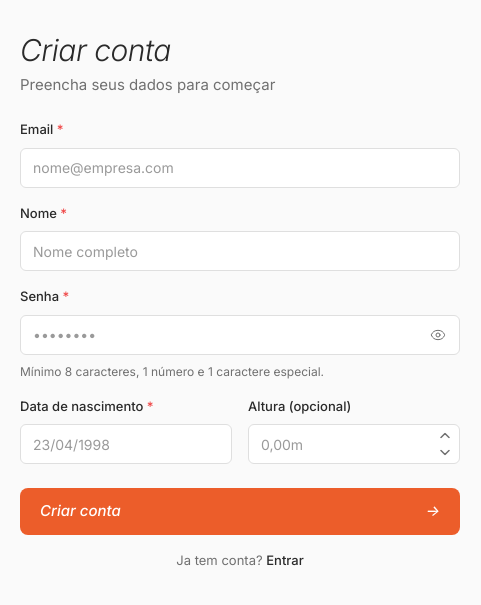
RegisterPage › rejects invalid birth dates in dd/mm/aaaa format
Type "user@example.com" into the field labelled "Email".
click(240, 168); type("user@example.com")  # box [20,148,460,188]
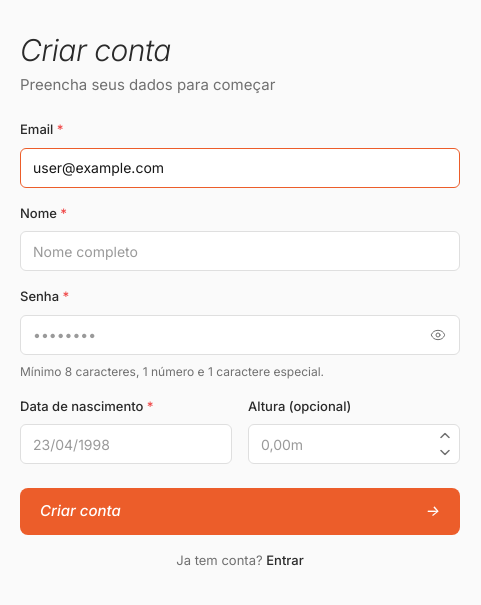
Type "User Name" into the field labelled "Nome".
click(240, 251); type("User Name")  # box [20,231,460,271]
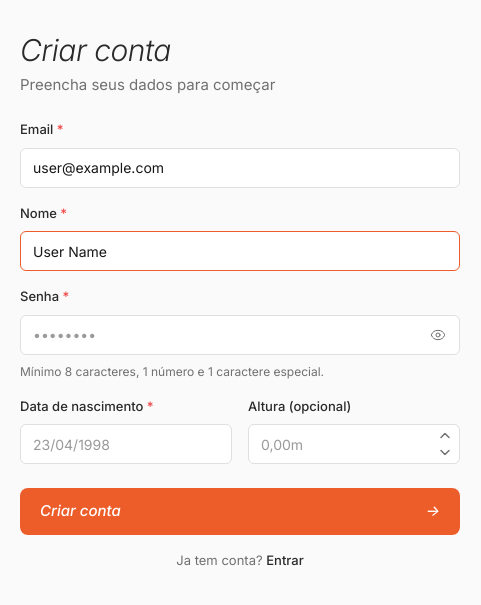
Type "secret123!" into the password field labelled "Senha".
click(240, 335); type("secret123!")  # box [20,315,460,355]
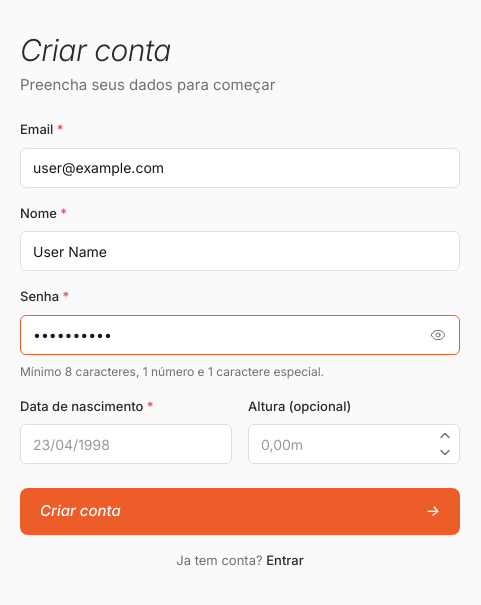
Type "31/02/1998" into the field labelled "Data de nascimento".
click(126, 444); type("31/02/1998")  # box [20,424,232,464]
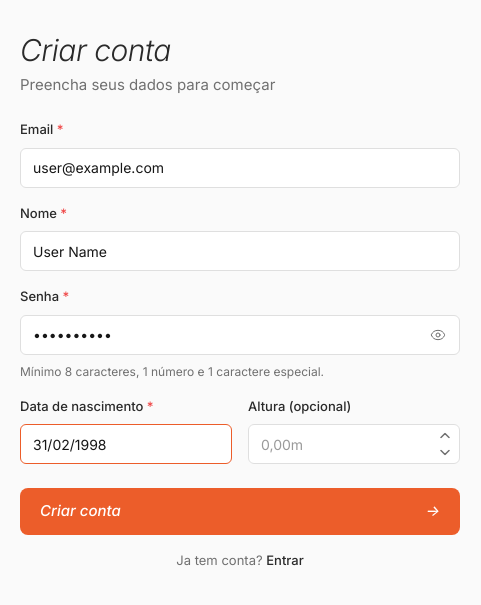
Click the button "Criar conta →".
click(80, 511)  # box [20,488,460,535]
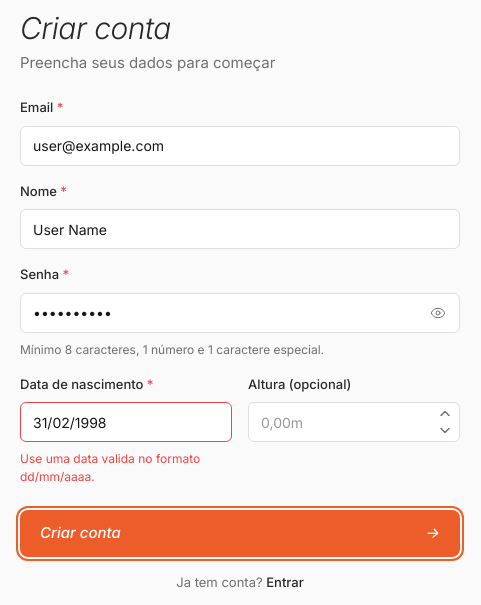
Check: the text "Use uma data valida no formato dd/mm/aaaa." is shown, box [20,451,200,484]
